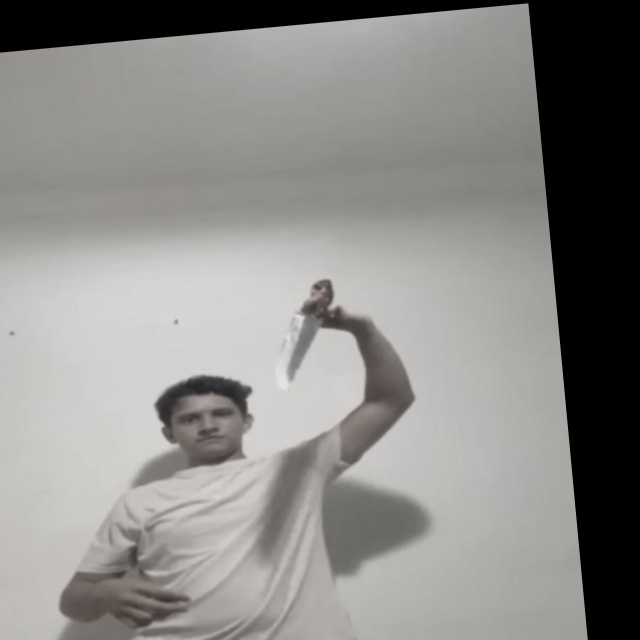Sharp-Object: (270, 311, 323, 387)
